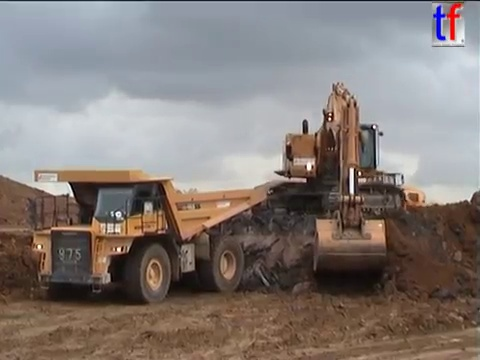excavator: (250, 79, 408, 278)
truck: (26, 167, 269, 306), (286, 169, 427, 218)
